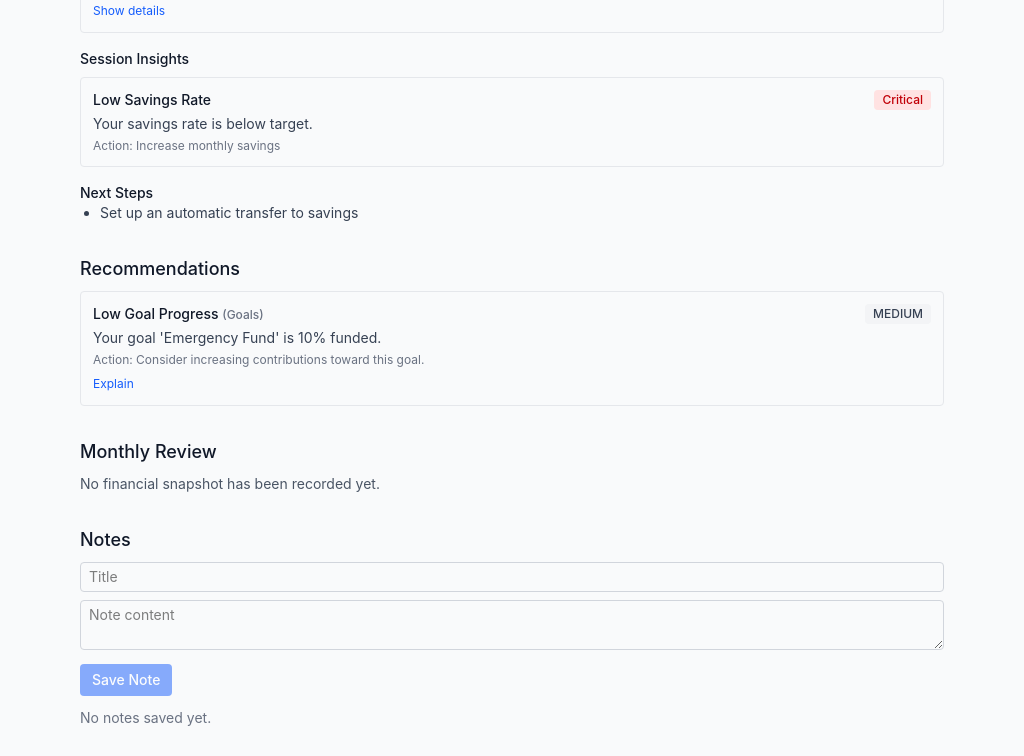
Test: CoachPage › renders a non-debt recommendation and fetches its explanation
(page scrolled)
Expected: the text "Low Goal Progress" is shown, [93,305,218,322]
Expected: the text "(Goals)" is shown, [222,307,264,322]
Click the button "Explain" at [113, 384], box [93,376,134,392]
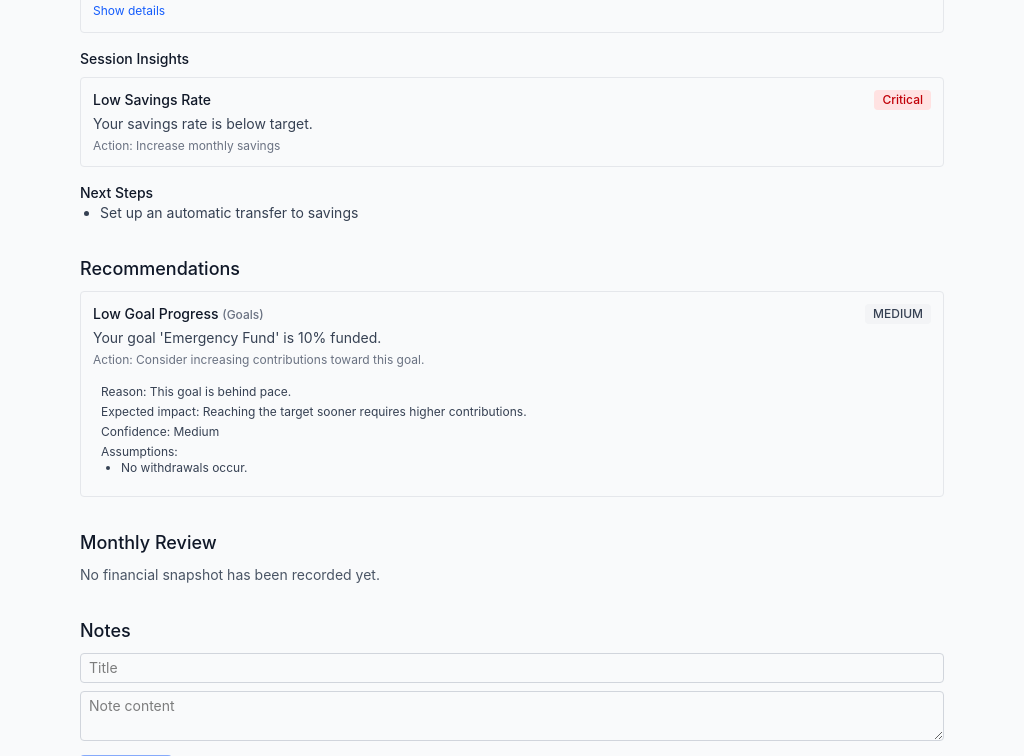
Expected: the text "Reason: This goal is behind pace." is shown, [101,384,291,399]
